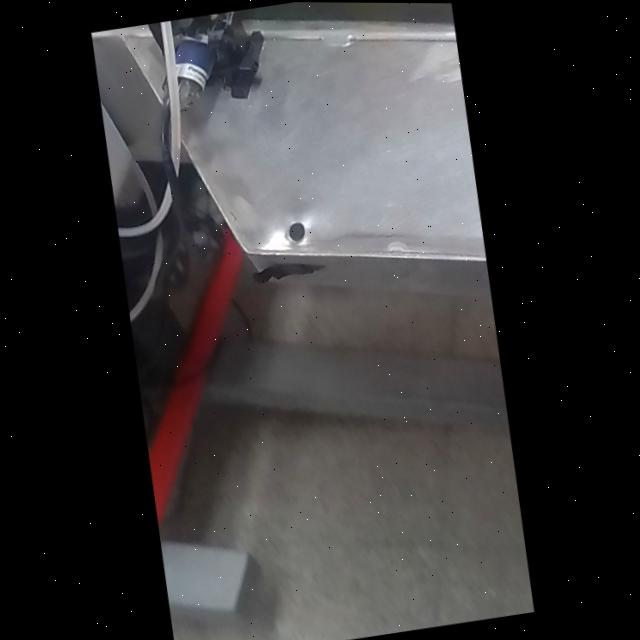yellowBox: (345, 2, 450, 19)
